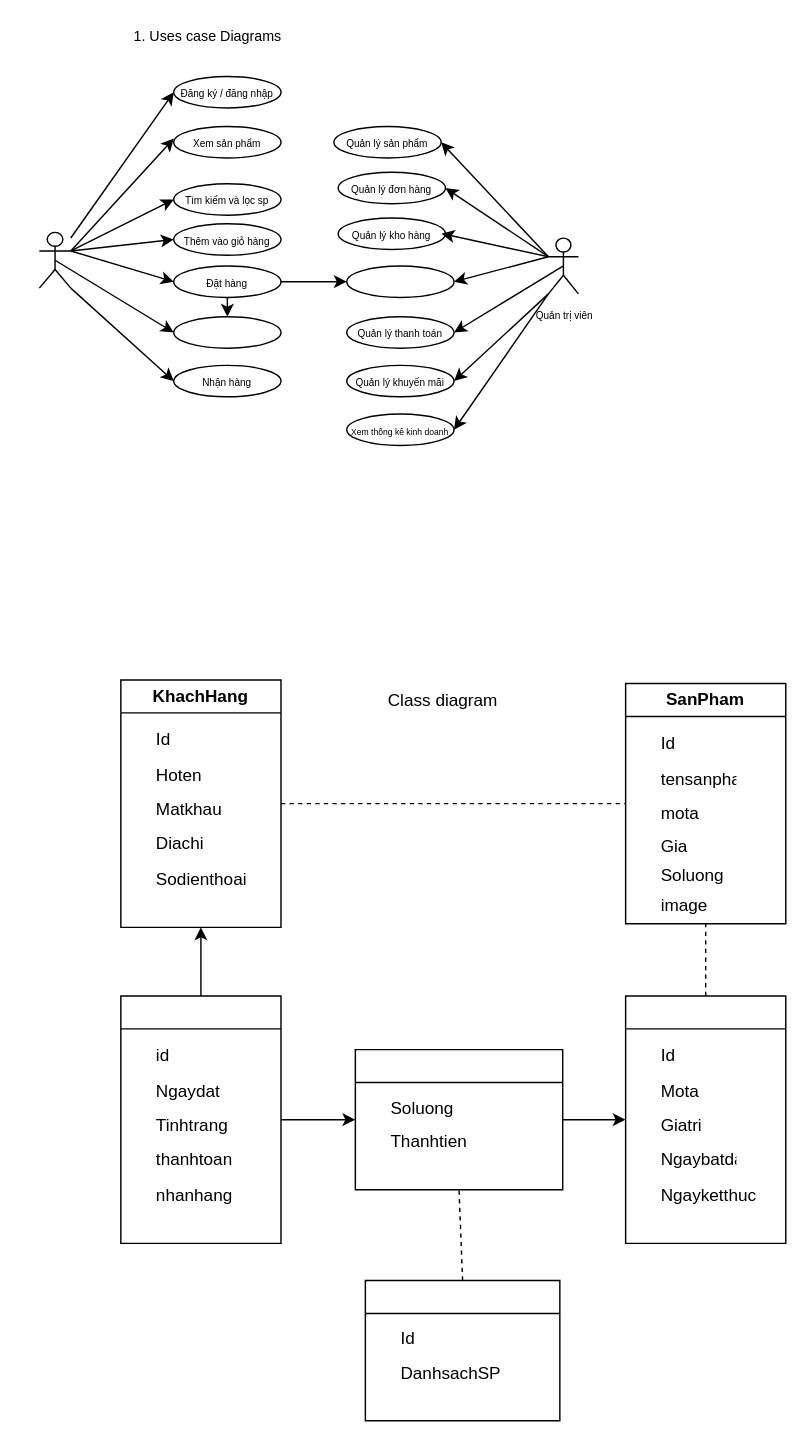
Some shapes in this 811 by 1446 pixel diagram are drawn without their labels. The box of each missing label's shape, as (x1, y1, x2, y2) in pixels:
ChiTietDonHang: (354, 1048, 563, 1190)
Chọn phương thức nhận hàng: (172, 315, 281, 348)
Donhang: (119, 995, 281, 1243)
GioHang: (364, 1279, 560, 1421)
KhuyenMai: (624, 995, 786, 1243)
Khách hàng: (38, 231, 71, 288)
Quản lý Giao hàng: (345, 265, 454, 297)
